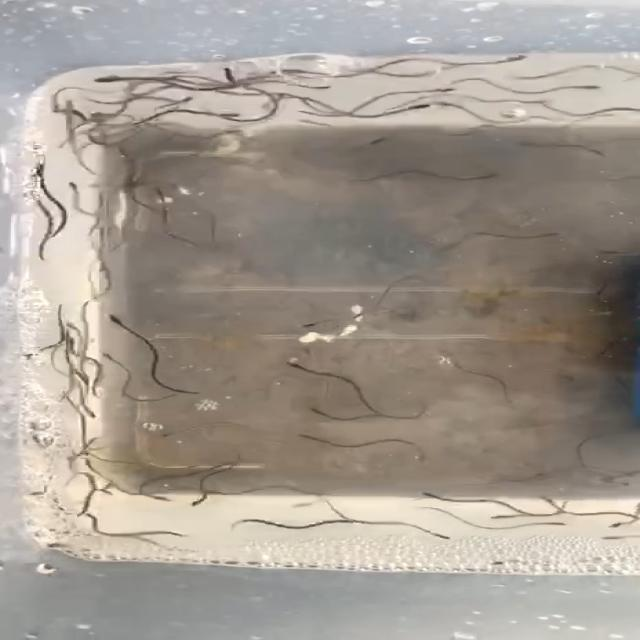inactive_glass_eel: (99, 309, 135, 332), (280, 94, 326, 110), (57, 177, 94, 194), (91, 72, 125, 90), (235, 172, 263, 192), (605, 108, 640, 124), (44, 492, 75, 510), (62, 96, 86, 119), (94, 262, 115, 288), (41, 538, 68, 558), (176, 116, 204, 135), (101, 138, 129, 157), (40, 98, 71, 115), (131, 490, 171, 503), (428, 81, 458, 98), (214, 67, 250, 81), (176, 496, 214, 509), (473, 167, 502, 184), (483, 508, 518, 522), (57, 332, 81, 352), (298, 318, 332, 332), (24, 484, 50, 502), (153, 424, 184, 439), (365, 133, 395, 148), (505, 69, 538, 82), (78, 407, 104, 423), (603, 472, 629, 488), (277, 358, 311, 370), (533, 493, 567, 505), (92, 226, 116, 243), (405, 101, 442, 112), (590, 144, 617, 159), (489, 54, 529, 64), (21, 347, 43, 365), (540, 227, 570, 240), (426, 527, 456, 540), (353, 464, 379, 479), (295, 426, 319, 442), (406, 488, 438, 500), (529, 470, 554, 485), (177, 91, 199, 108), (100, 347, 119, 366), (572, 84, 608, 94), (306, 403, 330, 418), (30, 162, 49, 180), (534, 518, 568, 528), (199, 118, 224, 131), (608, 517, 632, 530), (210, 537, 234, 548), (488, 558, 509, 570), (147, 190, 166, 202)
